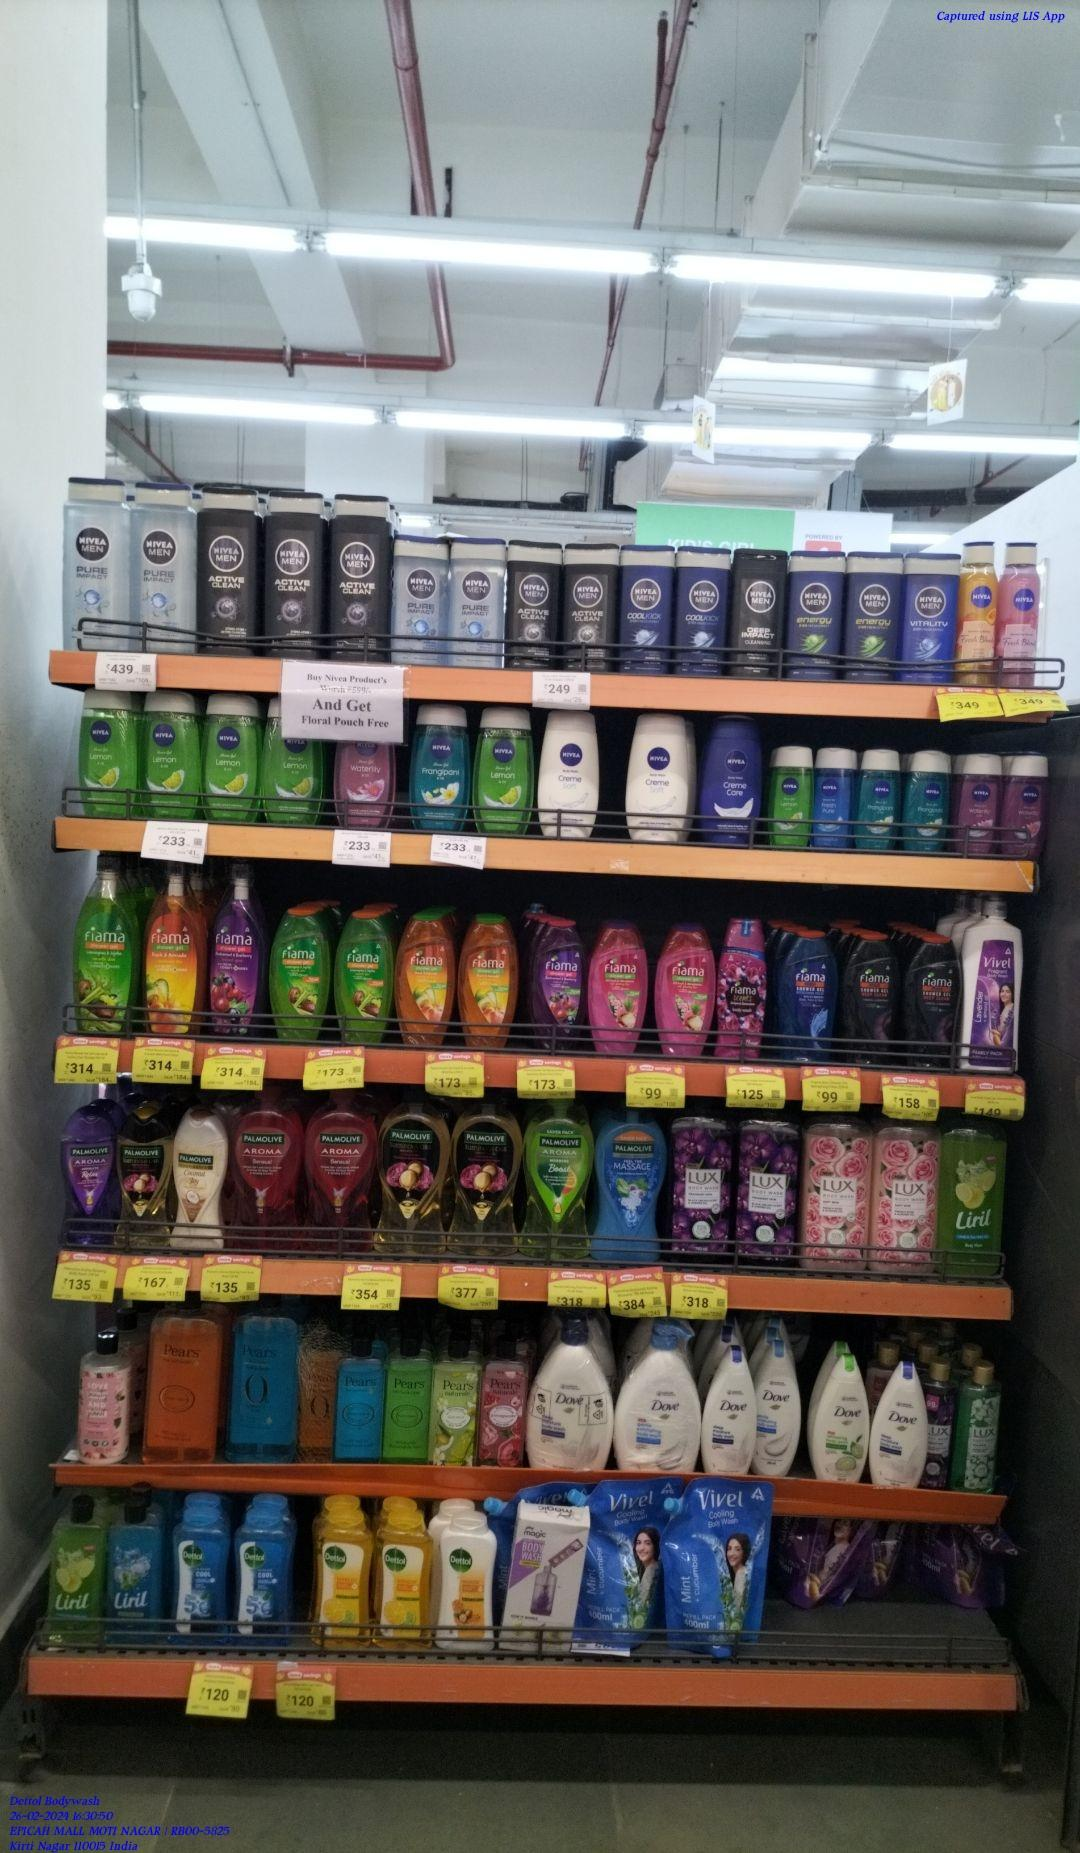Dettol_Bodywash_Cool: (237, 1515, 292, 1650), (174, 1510, 225, 1646)
Dettol_Bodywash_Refresh: (312, 1512, 370, 1651), (379, 1518, 429, 1651)
Dettol_Nourish_Body_Wash_250ML: (441, 1521, 495, 1654)
Dove_Deep_Moisture_Body_Wash_250ML: (873, 1360, 928, 1487), (703, 1344, 755, 1475)
Dove_Gentle_Exfoliating_Body_Wash_250ML: (757, 1344, 797, 1475)
Dove_Refreshing_Body_Wash_250ML: (814, 1357, 867, 1483)
Fiama_Shower_Gel_Lemongrass_and_Jojoba_250ML: (275, 906, 330, 1042), (339, 912, 388, 1046)
Fiama_Shower_Gel_Patchouli_and_Macadamia_250ML: (656, 924, 715, 1055), (118, 1109, 171, 1253), (589, 921, 645, 1051)
Fiama_Shower_Gel_Peach_and_Avocado_250ML: (396, 914, 454, 1047), (462, 915, 518, 1049)
Liril_Cooling_Mint_Body_Wash_250ML: (109, 1501, 161, 1653)
Liril_Lime_and_Tea_Tree_Oil_Body_Wash_250ML: (48, 1501, 102, 1647)
Lux_Black_Orchid_Scent_and_Juniper_Oil_Body_Wash_245ML: (931, 1356, 955, 1491)
Lux_Body_Wash_Skin_Detox_Freesia_Scent_and_Alove_Vera_245ML: (964, 1363, 998, 1493)
Nivea_Creme_Care_Body_Wash_250ML: (708, 716, 764, 849)
Nivea_Creme_Soft_Body_Wash_250ML: (625, 713, 689, 842), (543, 709, 599, 837)
Nivea_Shower_Gel_Frangipani_and_Oil_250ML: (418, 703, 471, 828)
Nivea_Shower_Gel_Lemon_and_Oil_250ML: (477, 707, 536, 833), (76, 687, 132, 813), (208, 693, 261, 824), (148, 694, 203, 816), (269, 703, 324, 822)
Nivea_Shower_Gel_Waterlily_and_Oil_250ML: (339, 745, 390, 822)
Palmolive_Aroma_Relax_250ML: (59, 1110, 116, 1248)
Palmolive_Coconut_Joy_Exfoliating_Body_Wash_250ML: (172, 1112, 224, 1249)
Pears_Naturale_Aloe_Vera_Body_Wash_250ML: (433, 1342, 474, 1465)
Pears_Pure_Glycerin_and_Lemon_Flower_Extracts_Body_Wash_250ML: (388, 1340, 429, 1464)
Pears_Pure_Glycerin_and_Mint_Extracts_Body_Wash_250ML: (336, 1340, 384, 1464)
